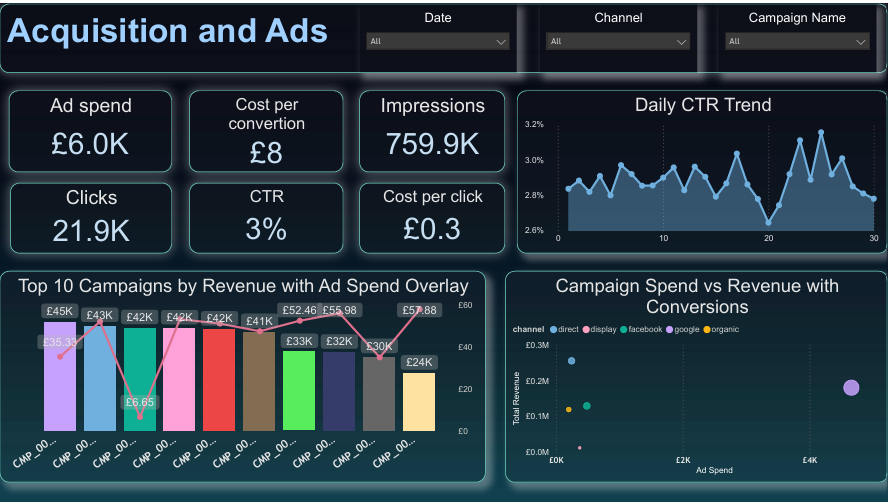

This screenshot's page, from the dashboard's own definition file:
{"tool":"powerbi","page":{"name":"Acquisition and Ads","canvas":[1280,720],"ordinal":1},"visuals":[{"type":"textbox","box":[0,0,1280,100],"z":0},{"type":"card","title":"Ad spend","fields":{"Values":["Measure Table.Ad Spend"]},"box":[12.5,125,235,117.5],"z":1000},{"type":"card","title":"Impressions","fields":{"Values":["Sum(dim_meta_ads_transactions.impressions)"]},"box":[517.5,125,210,117.5],"z":2000},{"type":"card","title":"Clicks","fields":{"Values":["Sum(dim_meta_ads_transactions.clicks)"]},"box":[15,257.5,232.5,102.5],"z":3000},{"type":"card","title":"CTR","fields":{"Values":["Measure Table.CTR"]},"box":[272.5,257.5,222.5,102.5],"z":4000},{"type":"card","title":"Cost per click","fields":{"Values":["Measure Table.Cost per Click"]},"box":[517.5,257.5,210,102.5],"z":5000},{"type":"card","title":"Cost per convertion","fields":{"Values":["Measure Table.Cost per conversion"]},"box":[272.5,125,222.5,117.5],"z":6000},{"type":"areaChart","title":"Daily CTR Trend","fields":{"Category":["dim_meta_ads_transactions.date.Variation.Date Hierarchy.Day"],"Y":["Measure Table.Daily CTR"]},"box":[745,125,535,235],"z":7000},{"type":"lineStackedColumnComboChart","title":"Top 10 Campaigns by Revenue with Ad Spend Overlay","fields":{"Category":["dim_campaigns.campaign_id"],"Y2":["Measure Table.Ad Spend"],"Y":["Measure Table.Total Revenue"]},"box":[0,385,700,305],"z":8000},{"type":"scatterChart","title":"Campaign Spend vs Revenue with Conversions","fields":{"X":["Measure Table.Ad Spend"],"Size":["Sum(dim_meta_ads_transactions.conversions)"],"Series":["dim_campaigns.channel"],"Y":["Measure Table.Total Revenue"]},"box":[727.5,385,552.5,305],"z":9000},{"type":"shape","box":[517.5,0,762.5,100],"z":10000},{"type":"slicer","title":"Date","fields":{"Values":["fact_crm_orders_transactions.order_date"]},"box":[517.5,0,227.5,100],"z":10001},{"type":"slicer","title":"Channel","fields":{"Values":["dim_campaigns.channel"]},"box":[777.5,0,227.5,100],"z":10002},{"type":"slicer","title":"Campaign Name","fields":{"Values":["dim_campaigns.campaign_name"]},"box":[1035,0,227.5,100],"z":10003}]}

Visuals, with their boxes in screenshot pixels (x1, y1, x2, y2), scaled from the page's 1280x720 canvas onto the 889x502 screenshot:
textbox: 0,0,888,70
"Ad spend" card: 9,87,172,169
"Impressions" card: 359,87,505,169
"Clicks" card: 10,180,172,251
"CTR" card: 189,180,344,251
"Cost per click" card: 359,180,505,251
"Cost per convertion" card: 189,87,344,169
"Daily CTR Trend" areaChart: 517,87,888,251
"Top 10 Campaigns by Revenue with Ad Spend Overlay" lineStackedColumnComboChart: 0,268,486,481
"Campaign Spend vs Revenue with Conversions" scatterChart: 505,268,888,481
shape: 359,0,888,70
"Date" slicer: 359,0,517,70
"Channel" slicer: 540,0,698,70
"Campaign Name" slicer: 719,0,877,70
